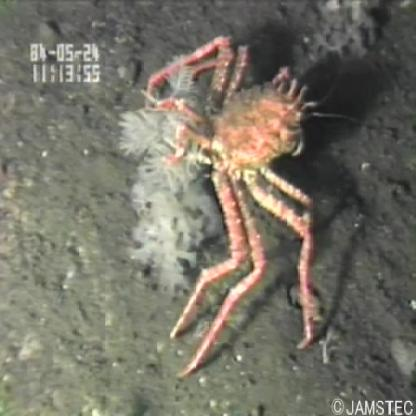Bio: (111, 26, 322, 382)
